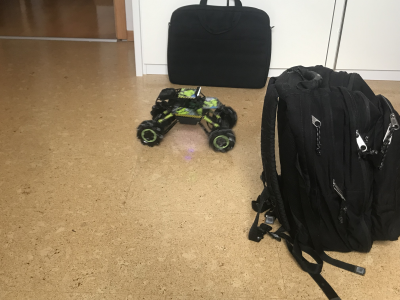remote control car: (135, 83, 239, 154)
